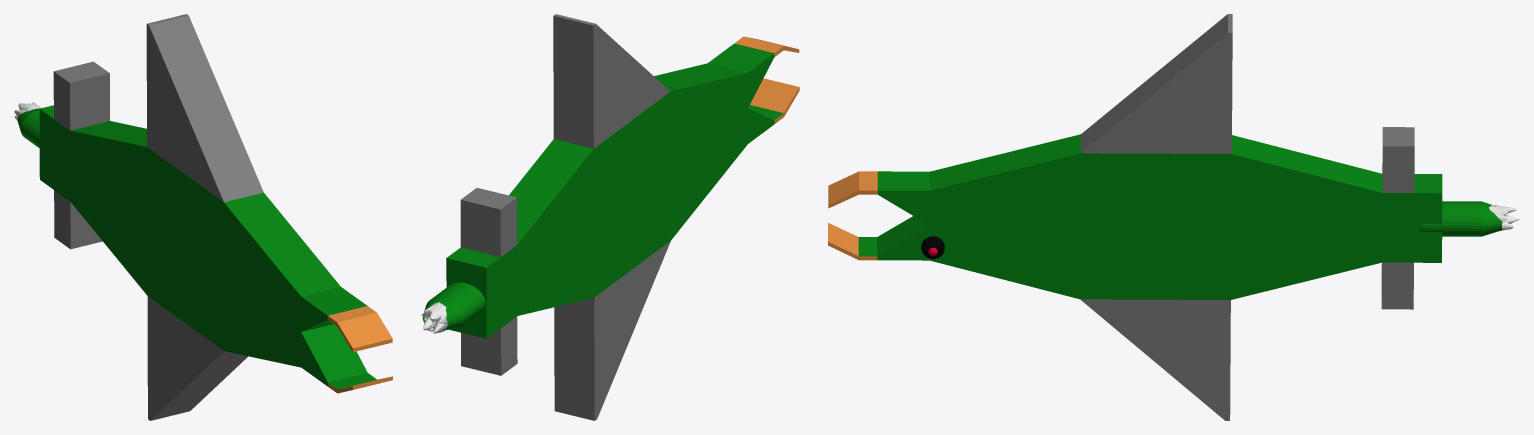
The model's file is enemy_spaceship2.fbx.
3 views of the same model, side by side, from view 1: azimuth 30°, elevation 25°; view 2: azimuth 150°, elevation 25°; view 3: azimuth 270°, elevation 25° (orthographic). The views are drawn at different scales.
Visible parts, largest first — view 1: Cube, Cylinder; view 2: Cube, Cylinder, Jet Flame mesh Icosphere.001; view 3: Cube, Cylinder.
Boxes of the visible parts, left/top/right/bottom form: Cube: left=39, top=14, right=392, bottom=420; Cylinder: left=17, top=108, right=39, bottom=147; Cube: left=446, top=14, right=799, bottom=420; Cylinder: left=422, top=282, right=485, bottom=330; Jet Flame mesh Icosphere.001: left=421, top=302, right=447, bottom=333; Cube: left=828, top=14, right=1442, bottom=420; Cylinder: left=1419, top=201, right=1502, bottom=236.
Bounding box in the file's own units: 172 × 1225 × 1980.
